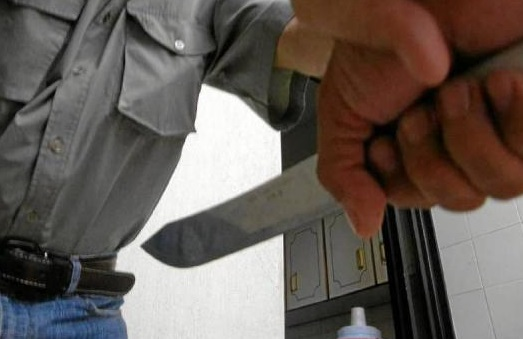knife: (128, 99, 442, 277)
